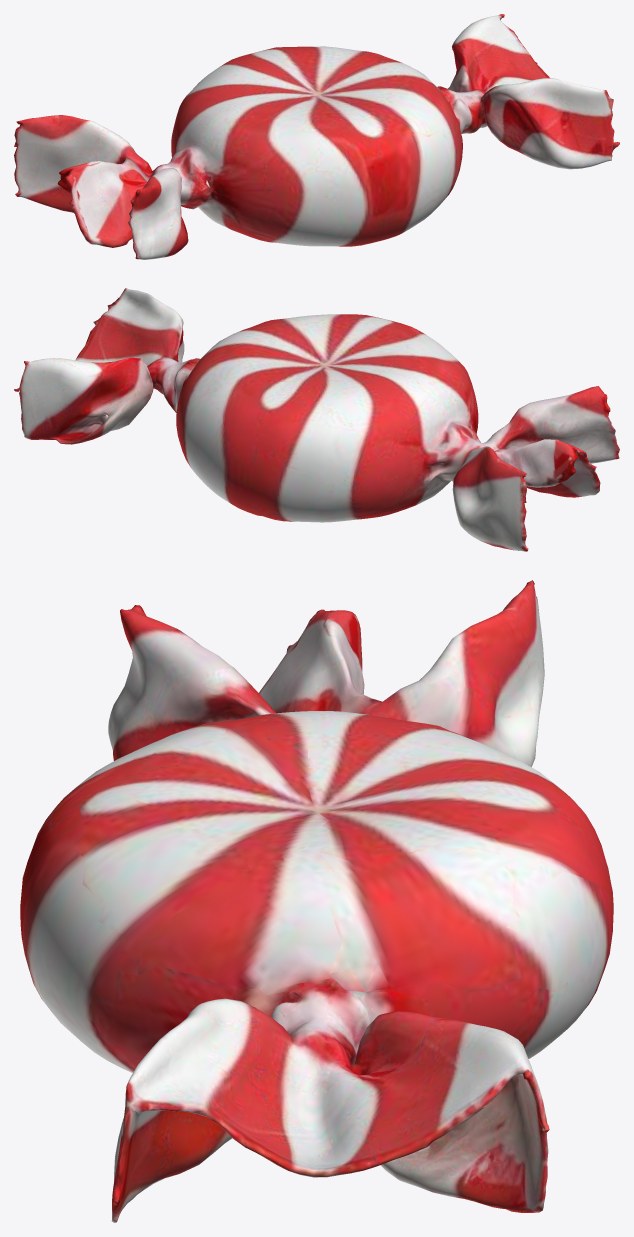
3 renders of one model, top to bottom at view 1: azimuth 30°, elevation 25°; view 2: azimuth 150°, elevation 25°; view 3: azimuth 270°, elevation 25°, orthographic. The views are drawn at different scales.
Size of the model in its own units: 1.99 by 0.4543 by 1.01.
1 material, 1 textured.
